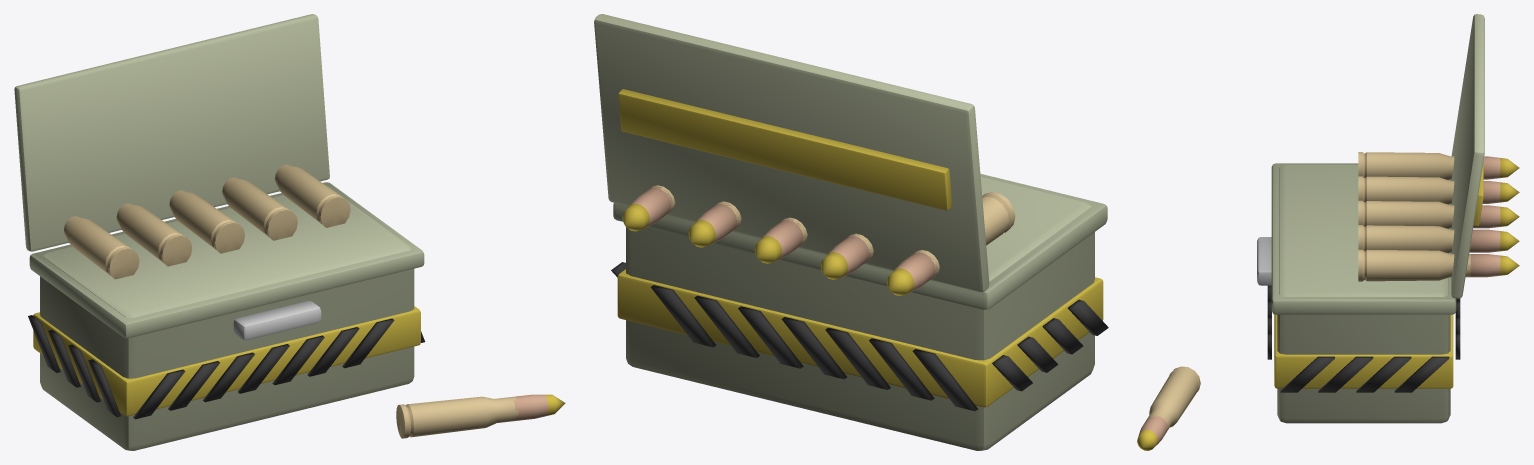
The model's file is rifle-ammo-explosive.glb.
3 views of the same model, side by side, from view 1: azimuth 30°, elevation 25°; view 2: azimuth 150°, elevation 25°; view 3: azimuth 270°, elevation 25° (orthographic). The views are drawn at different scales.
Parts seen in each view (by area): view 1: Body_lod0; view 2: Body_lod0; view 3: Body_lod0.
Part boxes in pixels (x1,y1,x2,y2): Body_lod0: (14,14,565,450); Body_lod0: (594,14,1108,450); Body_lod0: (1137,14,1519,450).
Size of what is drawn, in the model's own units: 0.1425 by 0.1059 by 0.1326.
